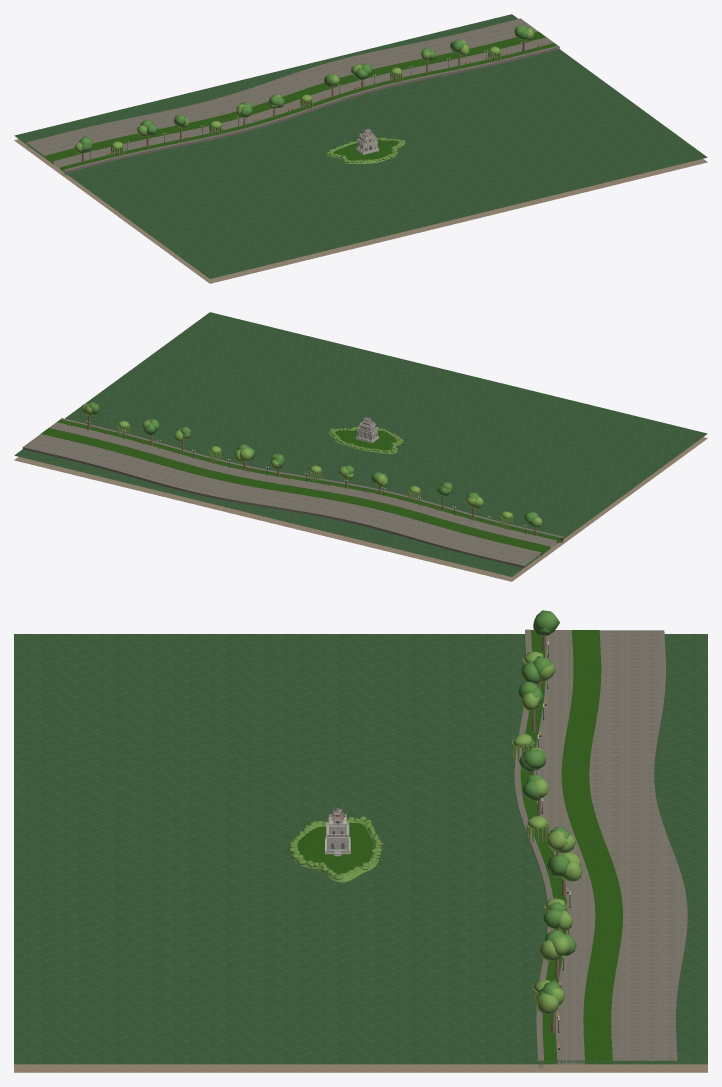
Rendered from thap_rua.glb.
The picture shows the model from 3 angles, top to bottom: view 1: azimuth 30°, elevation 25°; view 2: azimuth 150°, elevation 25°; view 3: azimuth 270°, elevation 25°; orthographic projection. The views are drawn at different scales.
Parts seen in each view (by area): view 1: ThapRua_MatHo, ThapRua_BoHo, ThapRua_Dao, ThapRua_Thap; view 2: ThapRua_MatHo, ThapRua_BoHo, ThapRua_Dao, ThapRua_Thap; view 3: ThapRua_MatHo, ThapRua_BoHo, ThapRua_Dao, ThapRua_Thap.
Part boxes in pixels (bbox=[...]): ThapRua_MatHo: bbox=[14, 14, 707, 283]; ThapRua_BoHo: bbox=[26, 18, 559, 175]; ThapRua_Dao: bbox=[326, 137, 405, 163]; ThapRua_Thap: bbox=[355, 127, 379, 154]; ThapRua_MatHo: bbox=[14, 312, 707, 581]; ThapRua_BoHo: bbox=[22, 402, 563, 567]; ThapRua_Dao: bbox=[327, 425, 403, 453]; ThapRua_Thap: bbox=[356, 416, 378, 443]; ThapRua_MatHo: bbox=[14, 634, 707, 1072]; ThapRua_BoHo: bbox=[512, 610, 687, 1068]; ThapRua_Dao: bbox=[288, 816, 383, 882]; ThapRua_Thap: bbox=[325, 807, 350, 856].
Bounding box in the file's own units: 220 × 14.29 × 150.
Materials: 21 (6 with a texture image).
